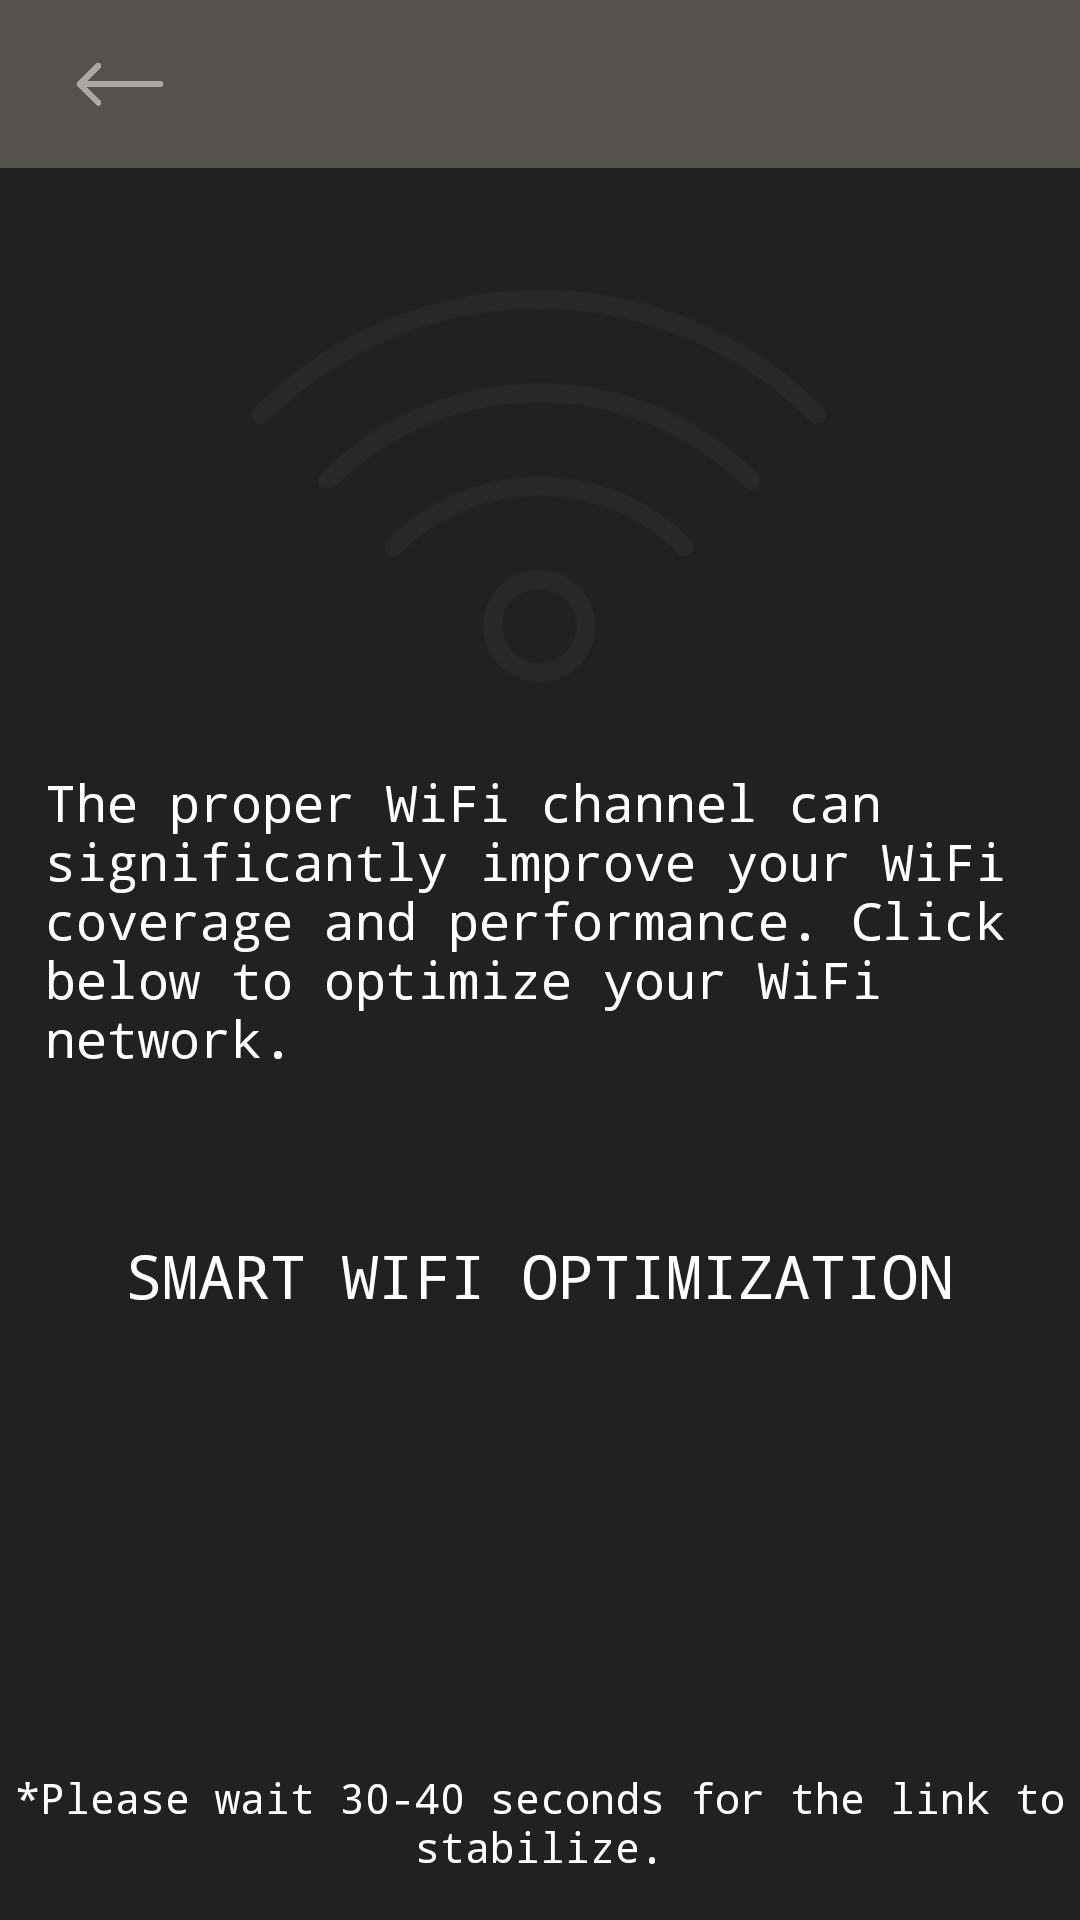

Icons on this 1080 × 1920 Android screen, each with its box as (x1, y1, x2, y2):
back: (76, 63, 164, 106)
